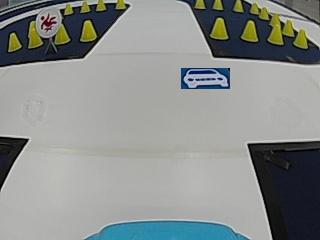cone: (210, 17, 229, 40), (267, 18, 282, 45), (240, 20, 258, 42), (80, 19, 96, 42), (28, 24, 41, 48), (293, 27, 307, 49), (54, 26, 70, 44), (8, 31, 20, 51), (283, 18, 294, 36), (232, 0, 243, 13), (63, 3, 73, 15), (80, 1, 90, 13), (260, 5, 268, 20), (96, 0, 106, 12), (250, 1, 259, 14), (212, 0, 223, 10), (194, 0, 205, 9), (115, 0, 125, 9)
tumble: (37, 9, 61, 34)
